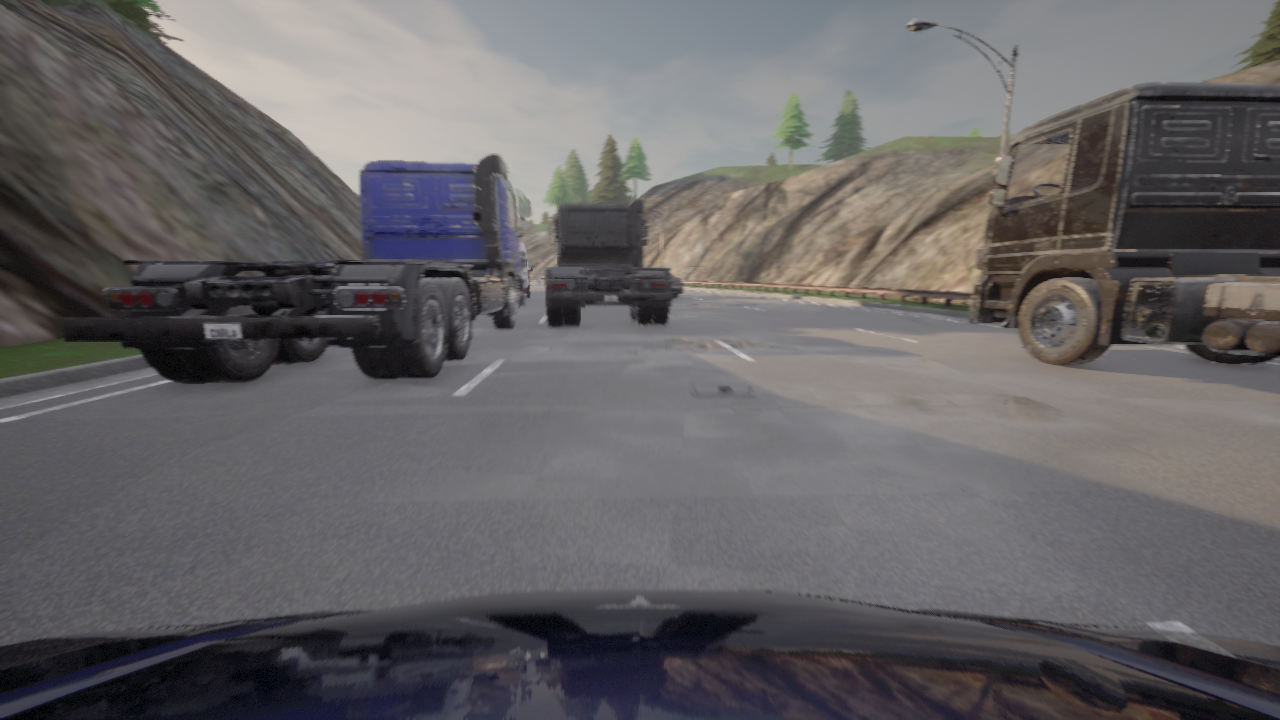cyclist: (0, 588, 1279, 719), (61, 154, 531, 382), (969, 82, 1279, 365), (546, 200, 671, 325), (520, 242, 533, 298), (670, 273, 682, 297), (537, 269, 546, 283)
